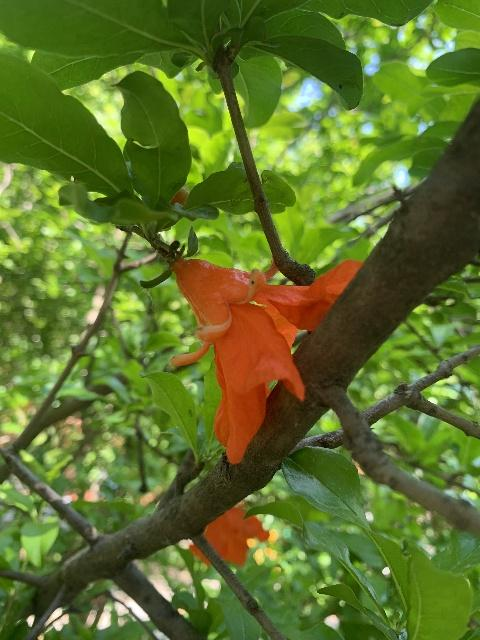flower: (167, 254, 363, 462), (189, 500, 275, 567)
